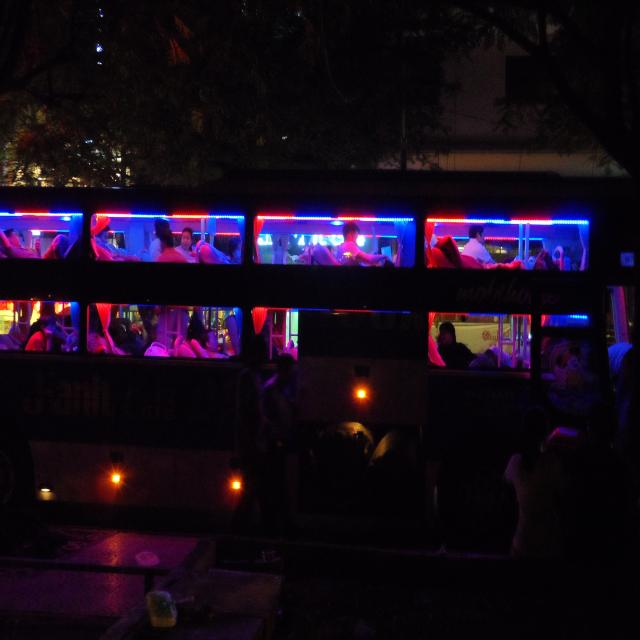Bus: (0, 158, 632, 598)
People: (483, 392, 576, 633), (556, 356, 626, 587), (424, 291, 497, 418), (273, 324, 327, 464)
